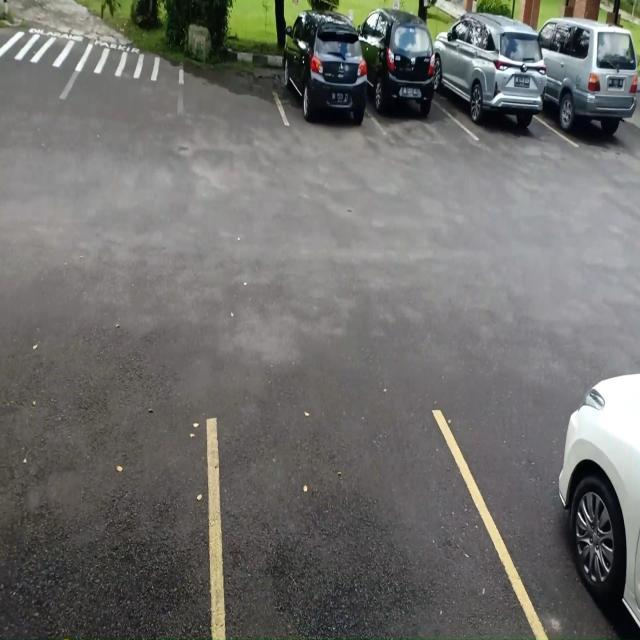Car: (438, 29, 547, 142), (370, 11, 440, 135), (280, 30, 369, 124)
Vacant: (208, 415, 507, 640), (180, 43, 284, 122)
